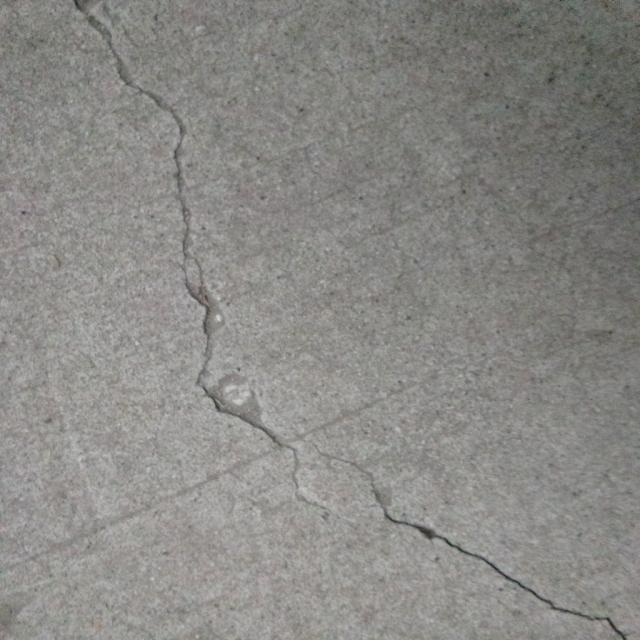cracks: (51, 1, 632, 640)
